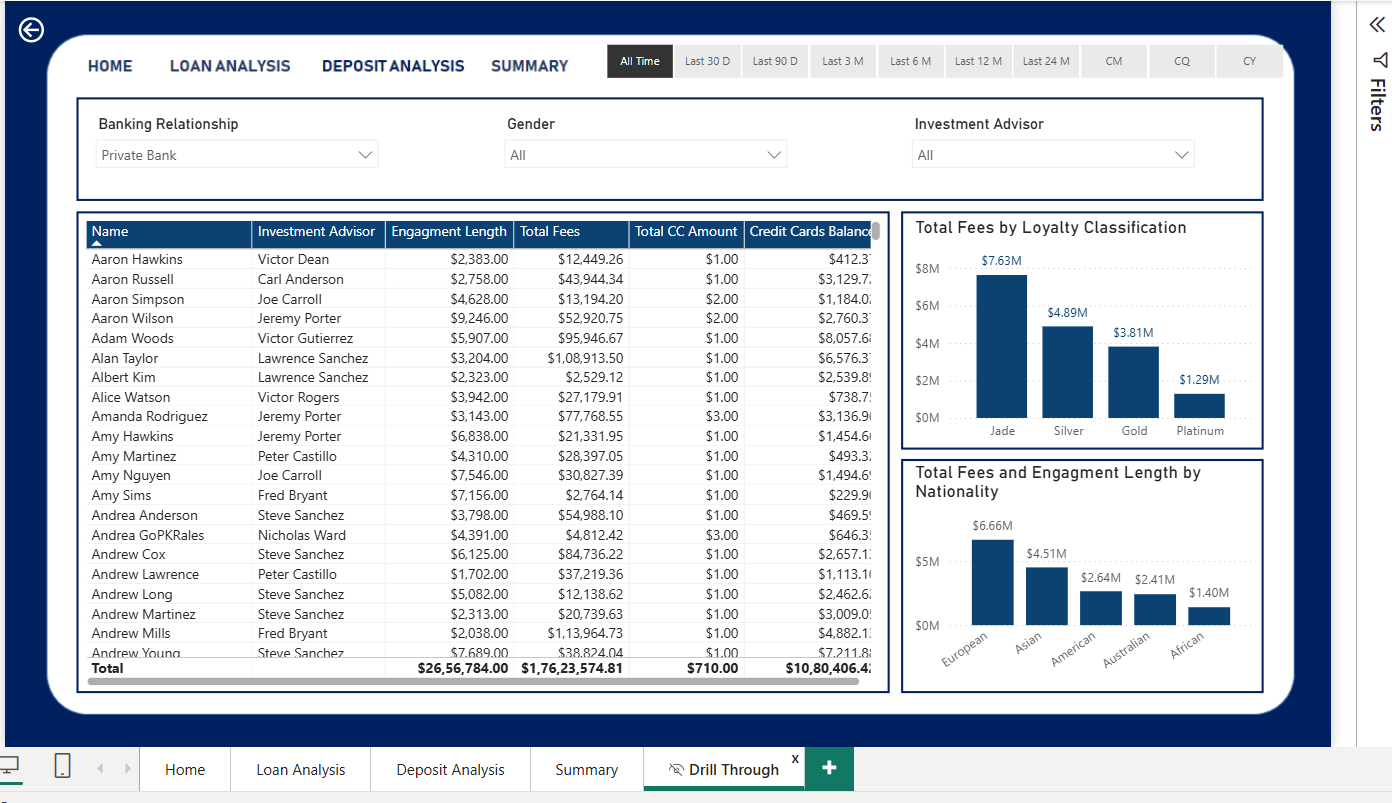

The dashboard page shown, as its layout file describes it:
{"tool":"powerbi","page":{"name":"Drill Through","canvas":[1280,720],"ordinal":4},"visuals":[{"type":"slicer","fields":{"Values":["Banking Relationship.Banking Relationship"]},"box":[77.4,104.4,293.2,76.2],"z":0},{"type":"slicer","fields":{"Values":["Gender.Gender"]},"box":[471.4,104.4,293.2,76.2],"z":1000},{"type":"slicer","fields":{"Values":["Investment Advisor.Investment Advisor"]},"box":[865.4,104.4,293.2,76.2],"z":2000},{"type":"tableEx","fields":{"Values":["Clients - Banking.Name","Investment Advisor.Investment Advisor","DAX Measures.Engagment Length","DAX Measures.Total Fees","DAX Measures.Total CC Amount","DAX Measures.Credit Cards"]},"box":[72.7,207.6,777.5,458.5],"z":3000},{"type":"actionButton","box":[8.2,10.6,41,34],"z":4000},{"type":"clusteredColumnChart","fields":{"Category":["Clients - Banking.Loyalty Classification"],"Y":["DAX Measures.Total Fees"]},"box":[873.6,207.6,336.5,225.1],"z":5000},{"type":"columnChart","fields":{"Category":["Clients - Banking.Nationality"],"Y":["DAX Measures.Total Fees"]},"box":[873.6,444.4,336.5,221.6],"z":6000},{"type":"slicer","fields":{"Values":["Period.Name"]},"box":[555.2,34.6,702.1,46.6],"z":7000},{"type":"actionButton","box":[72.8,44.2,58.5,31],"z":8000},{"type":"actionButton","box":[157.1,44.6,125.5,30.5],"z":9000},{"type":"actionButton","box":[297.9,44.6,151.3,30.5],"z":10000},{"type":"actionButton","box":[471.4,44.6,83.3,37.5],"z":11000}]}

Visuals, with their boxes on the page's 1280x720 design canvas (x1, y1, x2, y2). These are canvas units, not pixel positions in the 1392x803 screenshot, which may show the page scaled, cropped or inside an application window:
slicer - Banking Relationship.Banking Relationship: {"x1": 77, "y1": 104, "x2": 371, "y2": 181}
slicer - Gender.Gender: {"x1": 471, "y1": 104, "x2": 765, "y2": 181}
slicer - Investment Advisor.Investment Advisor: {"x1": 865, "y1": 104, "x2": 1159, "y2": 181}
tableEx - Clients - Banking.Name x Investment Advisor.Investment Advisor: {"x1": 73, "y1": 208, "x2": 850, "y2": 666}
actionButton: {"x1": 8, "y1": 11, "x2": 49, "y2": 45}
clusteredColumnChart - Clients - Banking.Loyalty Classification x DAX Measures.Total Fees: {"x1": 874, "y1": 208, "x2": 1210, "y2": 433}
columnChart - Clients - Banking.Nationality x DAX Measures.Total Fees: {"x1": 874, "y1": 444, "x2": 1210, "y2": 666}
slicer - Period.Name: {"x1": 555, "y1": 35, "x2": 1257, "y2": 81}
actionButton: {"x1": 73, "y1": 44, "x2": 131, "y2": 75}
actionButton: {"x1": 157, "y1": 45, "x2": 283, "y2": 75}
actionButton: {"x1": 298, "y1": 45, "x2": 449, "y2": 75}
actionButton: {"x1": 471, "y1": 45, "x2": 555, "y2": 82}
